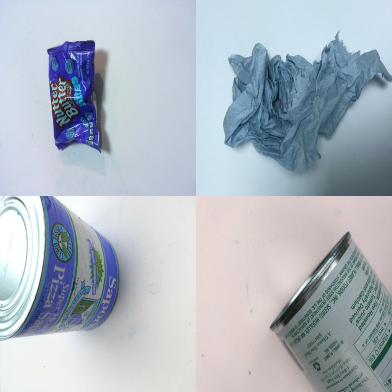metal: (270, 231, 392, 392), (1, 196, 120, 340)
paper: (223, 31, 392, 171)
trash: (47, 39, 103, 153)
